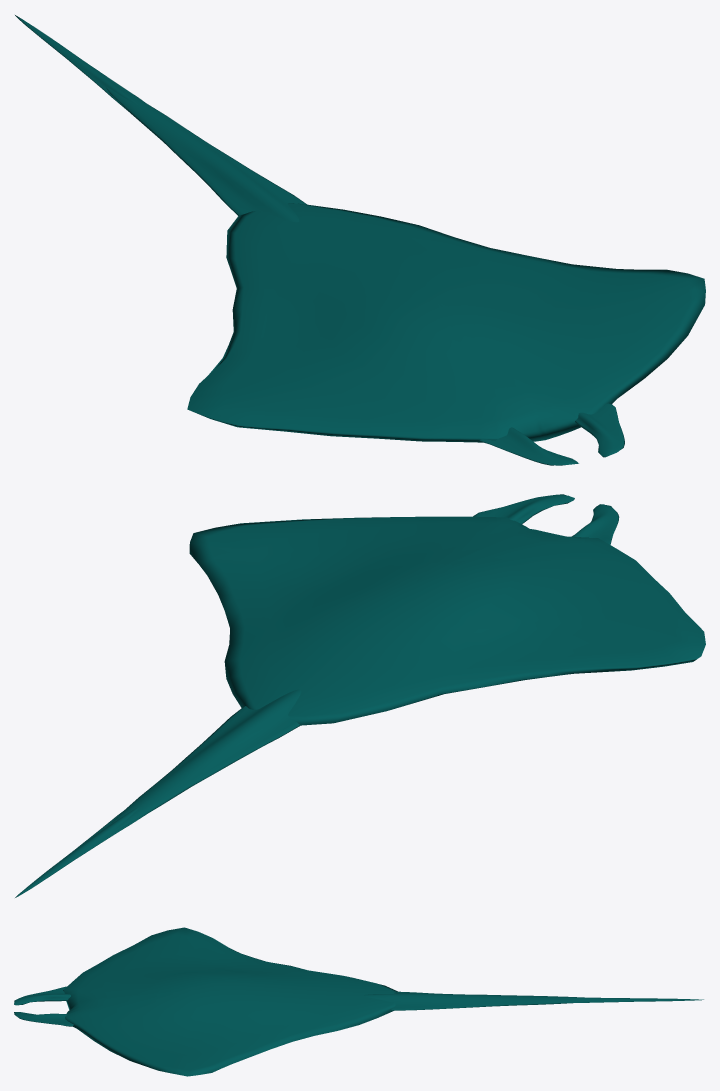
The model's file is cal.fbx.
The picture shows the model from 3 angles, top to bottom: view 1: azimuth 30°, elevation 25°; view 2: azimuth 150°, elevation 25°; view 3: azimuth 270°, elevation 25°; orthographic projection. The views are drawn at different scales.
Visible parts, largest first — view 1: corps carpe, queau carpe, mendibule carpe; view 2: corps carpe, queau carpe, mendibule carpe; view 3: corps carpe, queau carpe, mendibule carpe.
Boxes of the visible parts, x1,y1,x2,y2 form: corps carpe: (187, 203, 705, 442); queau carpe: (15, 15, 307, 222); mendibule carpe: (479, 403, 624, 465); corps carpe: (189, 516, 705, 725); queau carpe: (15, 689, 301, 897); mendibule carpe: (473, 494, 619, 544); corps carpe: (63, 927, 397, 1076); queau carpe: (363, 991, 703, 1010); mendibule carpe: (14, 986, 73, 1026).
Bounding box in the file's own units: 3275 × 304 × 6374.
